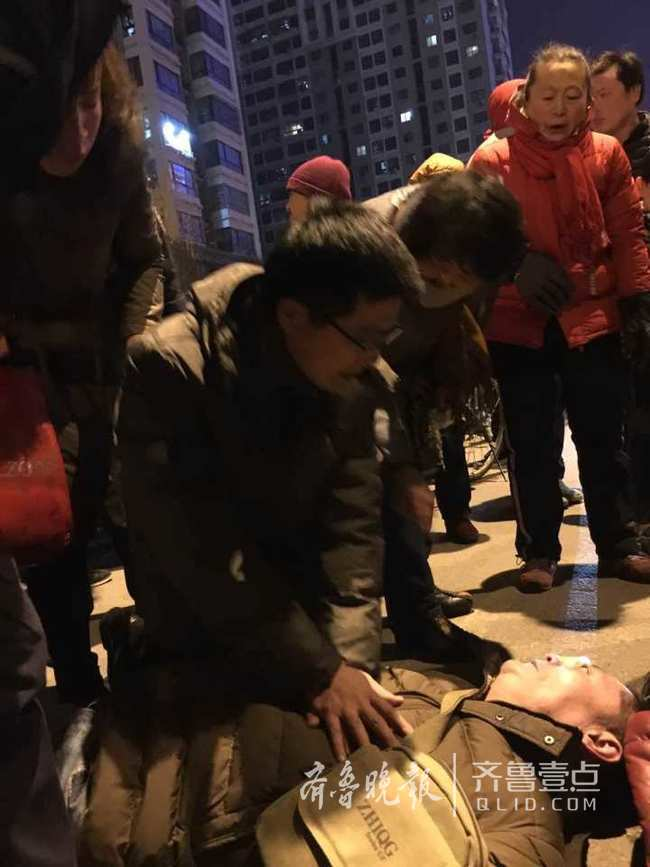fall: (57, 623, 650, 863)
